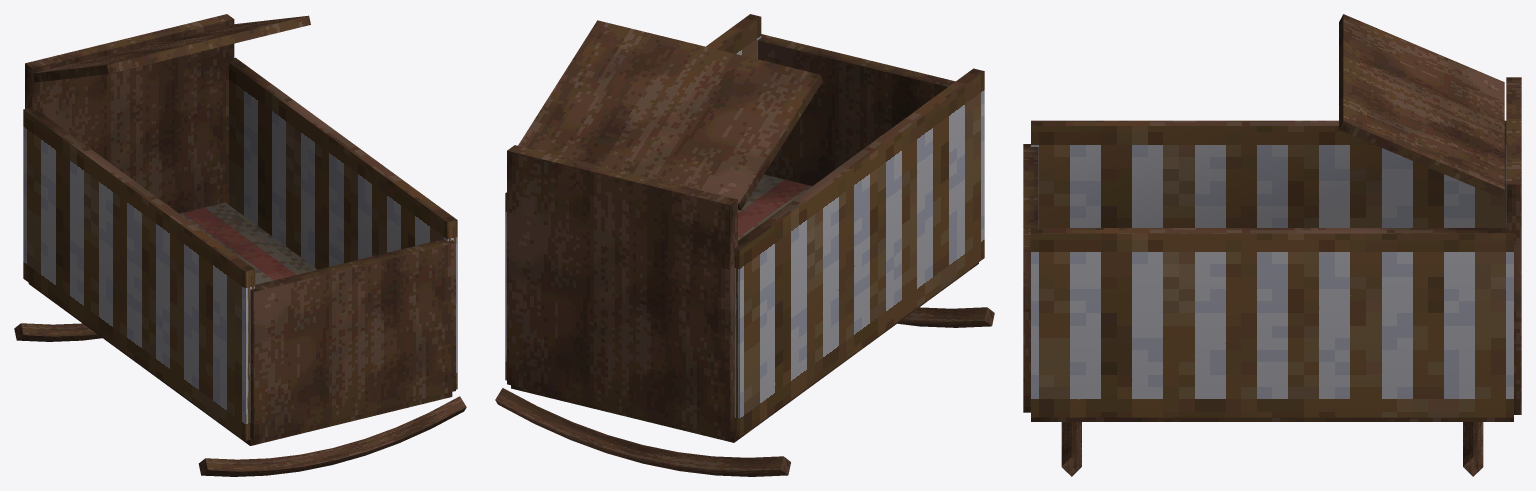
The model's file is cradle.glb.
3 views of the same model, side by side, from view 1: azimuth 30°, elevation 25°; view 2: azimuth 150°, elevation 25°; view 3: azimuth 270°, elevation 25° (orthographic). The views are drawn at different scales.
Visible parts, largest first — view 1: cradle; view 2: cradle; view 3: cradle.
Part boxes in pixels (<box>): cradle: <box>14,14,466,476</box>; cradle: <box>495,14,994,476</box>; cradle: <box>1023,14,1521,476</box>.
Size of the model in its own units: 0.6506 by 0.7875 by 0.98.
1 material, 1 textured.
